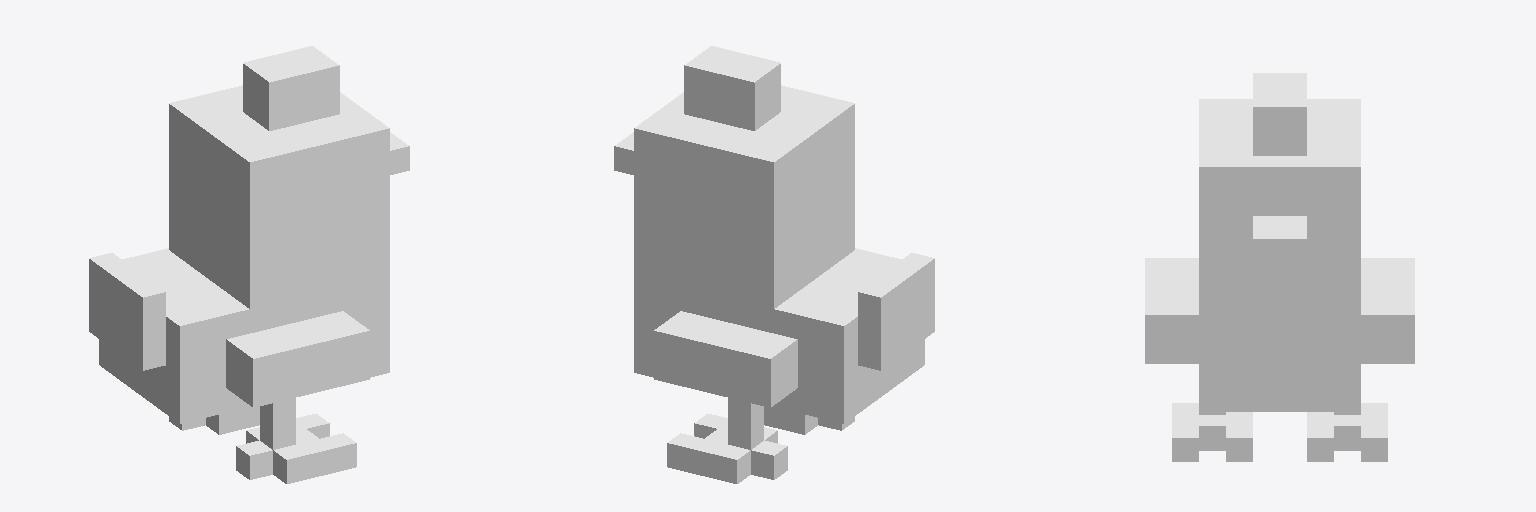
File: gacon.obj
The picture shows the model from 3 angles: view 1: azimuth 30°, elevation 25°; view 2: azimuth 150°, elevation 25°; view 3: azimuth 270°, elevation 25°; orthographic projection.
Parts seen in each view (by area): view 1: object 1; view 2: object 1; view 3: object 1.
Part boxes in pixels (x1,y1,x2,y2): object 1: (89,46,409,483); object 1: (614,46,934,483); object 1: (1145,73,1414,461).
Size of the model in its own units: 1.2 by 1.5 by 1.